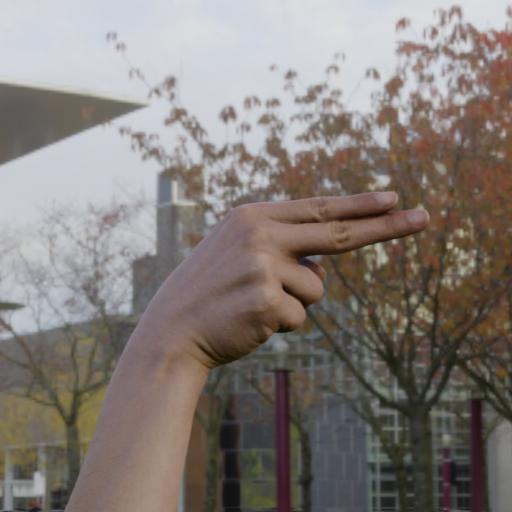H: (141, 188, 437, 368)
